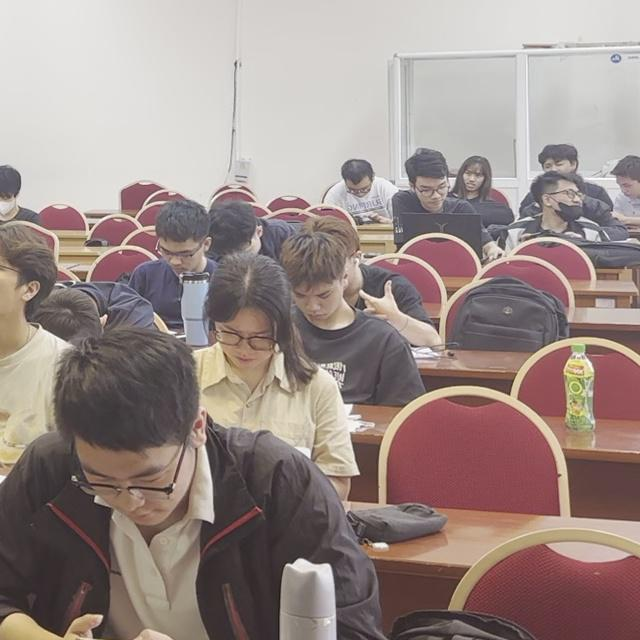Looking away: (72, 431, 192, 525), (214, 303, 275, 370), (292, 271, 343, 323), (158, 232, 204, 276), (415, 171, 449, 212), (543, 182, 584, 215), (618, 173, 640, 200)
Looking forward: (461, 160, 488, 192)
Phone use: (323, 157, 401, 227)
